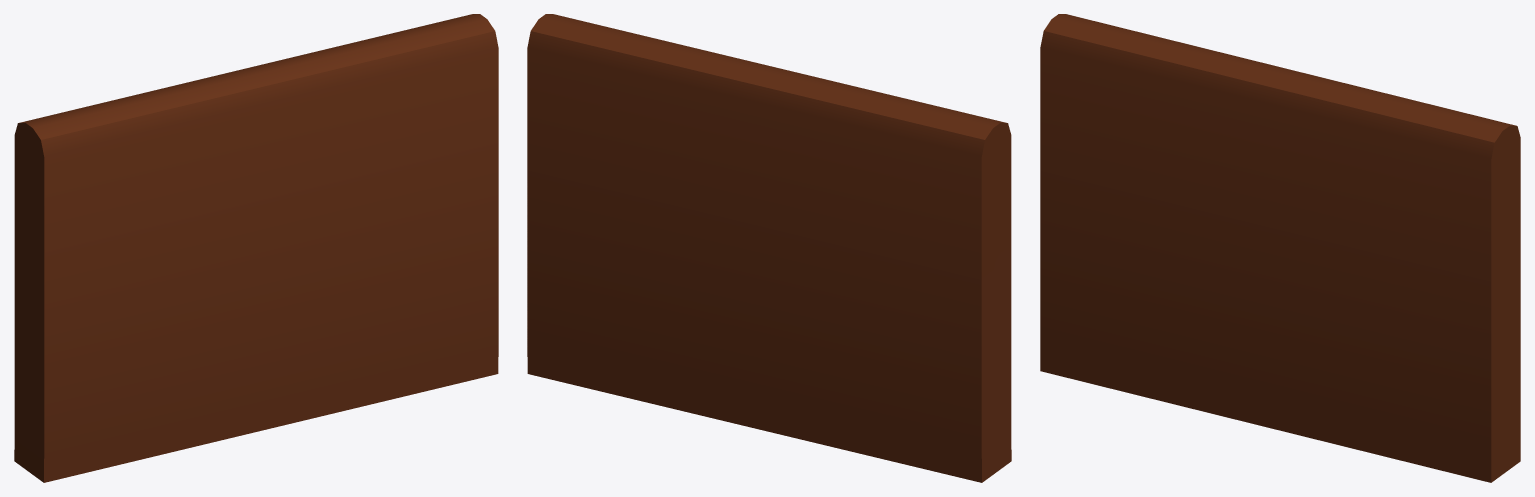
Rendered from barr3.fbx.
3 renders of one model, left to right at view 1: azimuth 30°, elevation 25°; view 2: azimuth 150°, elevation 25°; view 3: azimuth 330°, elevation 25°, orthographic.
Parts seen in each view (by area): view 1: Cube.014; view 2: Cube.014; view 3: Cube.014.
Boxes of the visible parts, x1,y1,x2,y2 form: Cube.014: [14, 14, 498, 482]; Cube.014: [527, 14, 1011, 482]; Cube.014: [1040, 14, 1520, 482].
Size of the model in its own units: 235 by 172 by 26.45.
